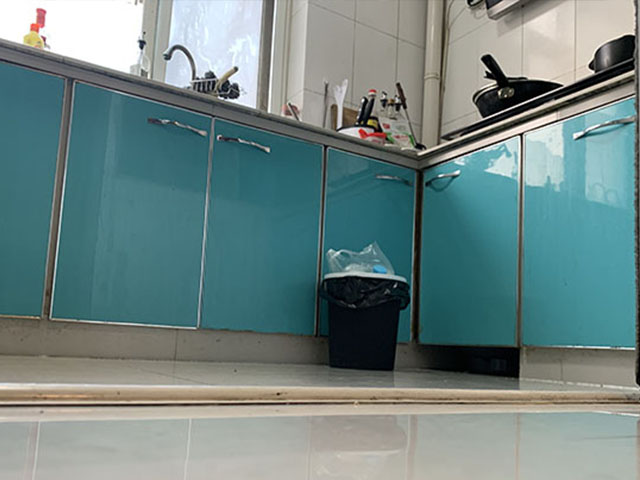cabinet: (1, 36, 416, 358), (416, 60, 638, 386)
trashcan: (318, 270, 413, 374)
